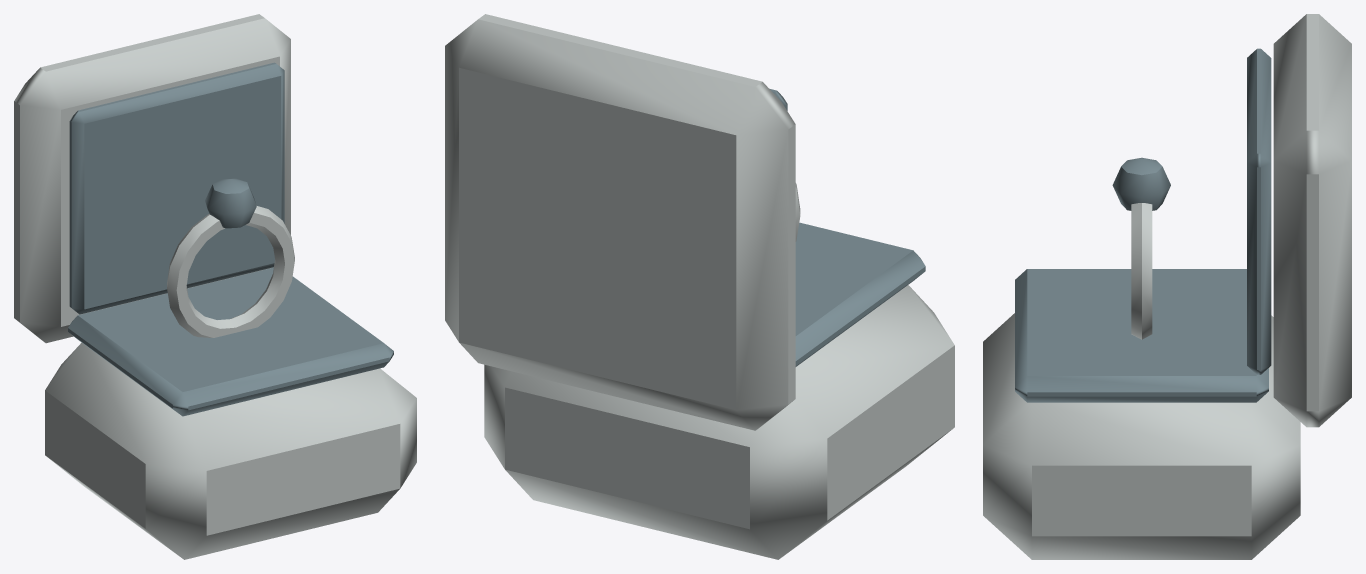
File: ring-box.glb
3 views of the same model, side by side, from view 1: azimuth 30°, elevation 25°; view 2: azimuth 150°, elevation 25°; view 3: azimuth 270°, elevation 25° (orthographic). The views are drawn at different scales.
Visible parts, largest first — view 1: velvet_base, lid_lining, open_lid, velvet_insert, engagement_ring, gem; view 2: open_lid, velvet_base, velvet_insert; view 3: velvet_base, open_lid, velvet_insert, lid_lining, engagement_ring, gem.
Boxes of the visible parts, left/top/right/bottom form: velvet_base: left=45, top=342, right=416, bottom=559; lid_lining: left=69, top=62, right=284, bottom=314; open_lid: left=14, top=14, right=290, bottom=343; velvet_insert: left=68, top=267, right=393, bottom=416; engagement_ring: left=167, top=206, right=294, bottom=337; gem: left=205, top=178, right=256, bottom=228; open_lid: left=445, top=14, right=795, bottom=430; velvet_base: left=484, top=285, right=954, bottom=559; velvet_insert: left=795, top=222, right=925, bottom=366; velvet_base: left=983, top=313, right=1300, bottom=559; open_lid: left=1273, top=14, right=1351, bottom=427; velvet_insert: left=1015, top=269, right=1268, bottom=402; lid_lining: left=1247, top=48, right=1271, bottom=374; engagement_ring: left=1131, top=203, right=1152, bottom=339; gem: left=1112, top=157, right=1170, bottom=210.
Size of the model in its own units: 0.07 by 0.0985 by 0.0755.
